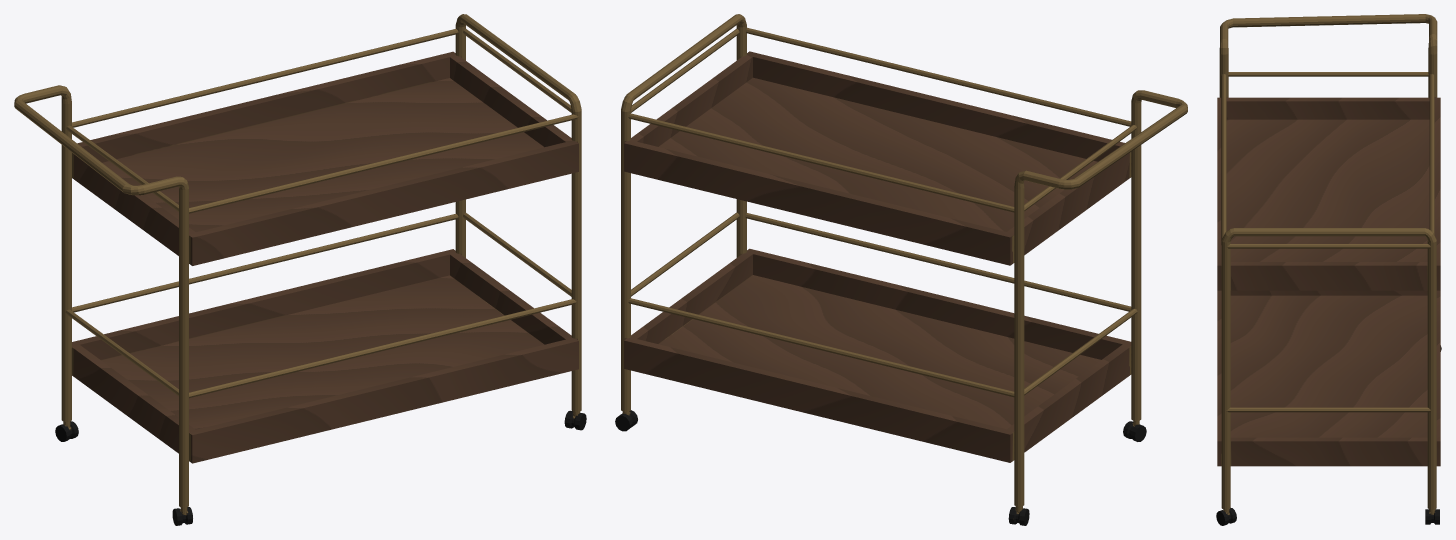
Rendered from barcart.fbx.
3 renders of one model, left to right at view 1: azimuth 30°, elevation 25°; view 2: azimuth 150°, elevation 25°; view 3: azimuth 270°, elevation 25°, orthographic. The views are drawn at different scales.
Parts seen in each view (by area): view 1: barcart_baked; view 2: barcart_baked; view 3: barcart_baked.
Part boxes in pixels (x1=…): barcart_baked: x1=14, y1=14, x2=586, y2=525; barcart_baked: x1=615, y1=14, x2=1187, y2=525; barcart_baked: x1=1216, y1=14, x2=1441, y2=525.
Bounding box in the file's own units: 184 × 136 × 87.82.
Materials: 1 (1 with a texture image).
